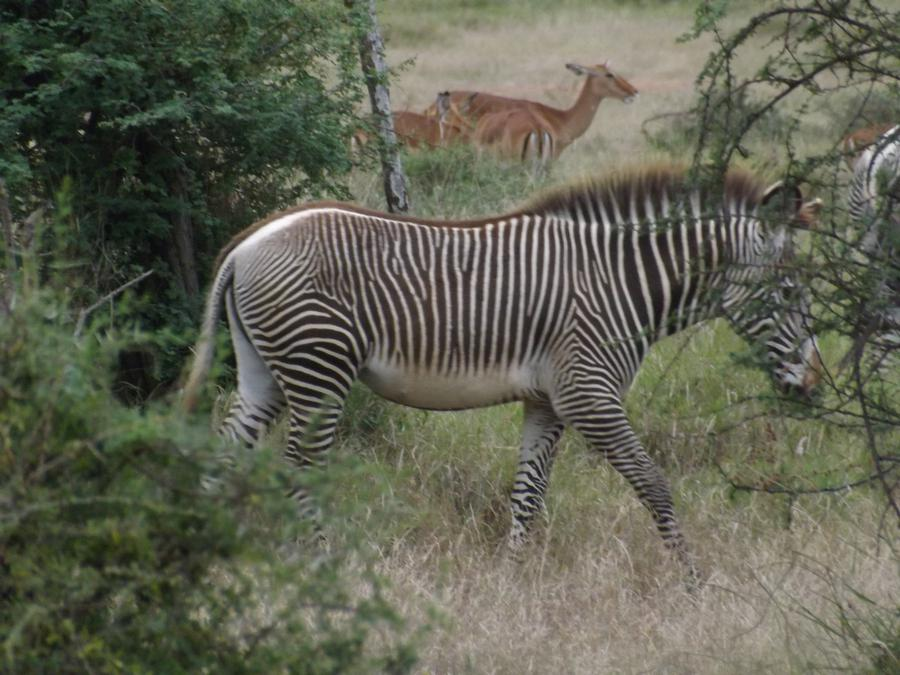zebra_grevys: (211, 182, 637, 398)
